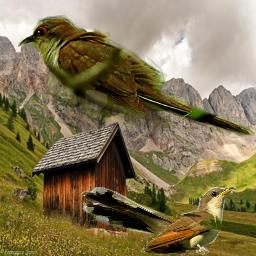Cuckoo: (18, 15, 255, 138), (82, 187, 236, 255)
